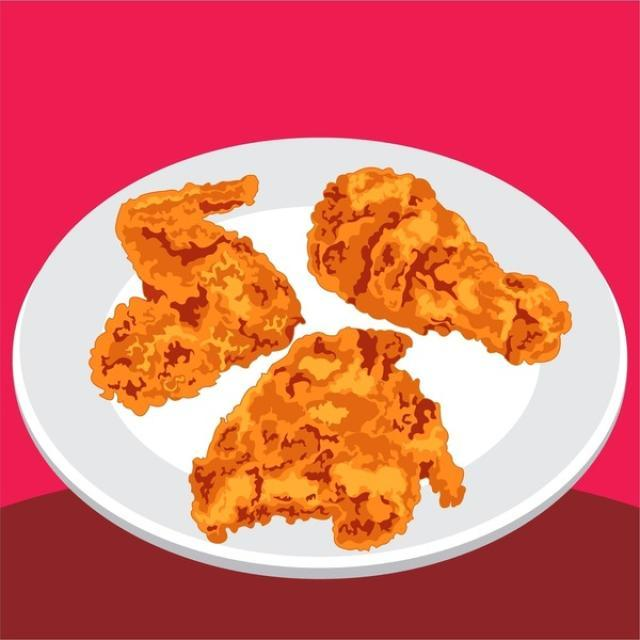ayam_goreng: (48, 139, 596, 561)
